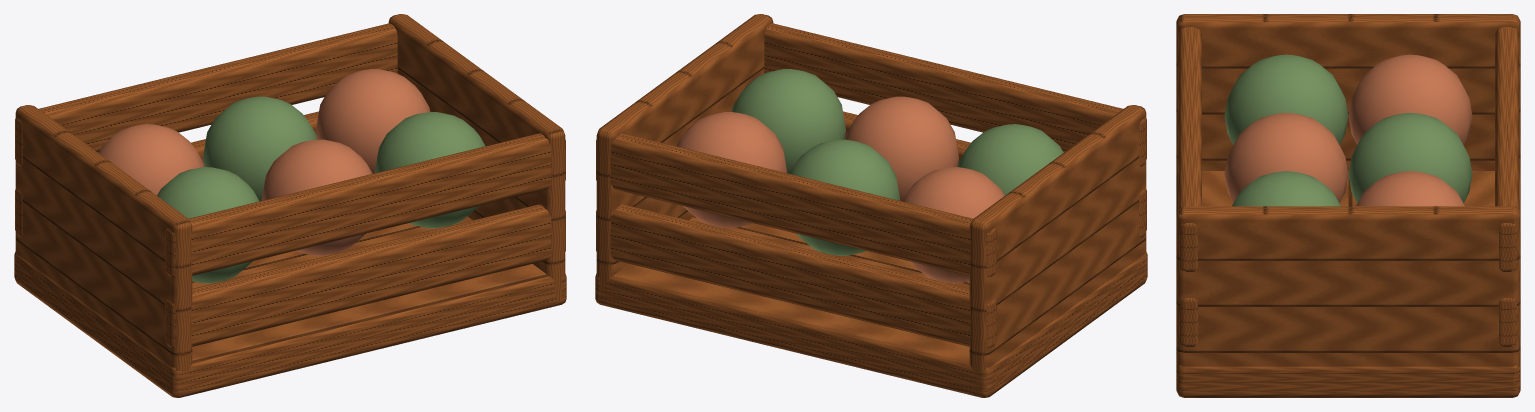
Rendered from adventurers-tavern-and-guild-hall-vegetable-crate-fcbcd6ed__24731.glb.
3 views of the same model, side by side, from view 1: azimuth 30°, elevation 25°; view 2: azimuth 150°, elevation 25°; view 3: azimuth 270°, elevation 25° (orthographic). The views are drawn at different scales.
Visible parts, largest first — view 1: vegetable-crate; view 2: vegetable-crate; view 3: vegetable-crate.
Part boxes in pixels (bbox=[...]): vegetable-crate: bbox=[14, 14, 566, 397]; vegetable-crate: bbox=[595, 14, 1147, 397]; vegetable-crate: bbox=[1176, 14, 1520, 397].
Size of the model in its own units: 0.7 by 0.3 by 0.5.
Materials: 3 (1 with a texture image).
